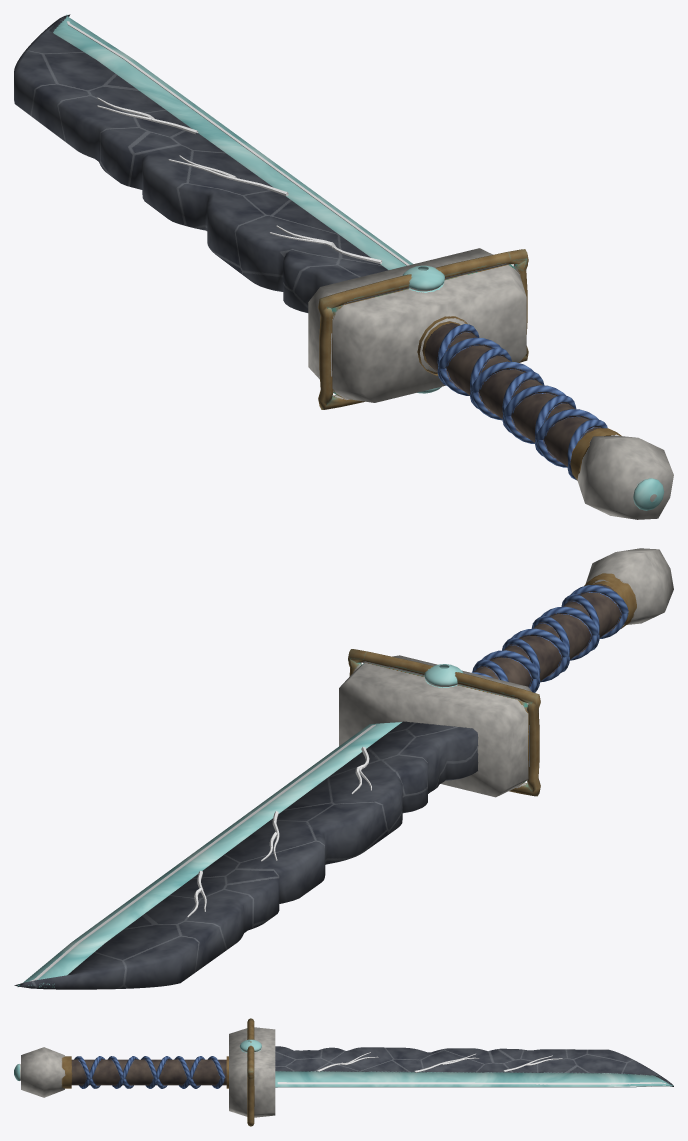
Rendered from Sword2.fbx.
3 renders of one model, top to bottom at view 1: azimuth 30°, elevation 25°; view 2: azimuth 150°, elevation 25°; view 3: azimuth 270°, elevation 25°, orthographic. The views are drawn at different scales.
Visible parts, largest first — view 1: Sword2_Body, Sword2_Glow_288cff; view 2: Sword2_Body, Sword2_Glow_288cff; view 3: Sword2_Body, Sword2_Glow_288cff.
Part boxes in pixels (x1,y1,x2,y2): Sword2_Body: (14,14,673,519); Sword2_Glow_288cff: (66,21,409,265); Sword2_Body: (14,548,673,989); Sword2_Glow_288cff: (30,724,375,981); Sword2_Body: (14,1018,673,1126); Sword2_Glow_288cff: (277,1052,665,1087).
Bounding box in the file's own units: 1.07 × 0.6 × 5.71.
Materials: 2 (1 with a texture image).
